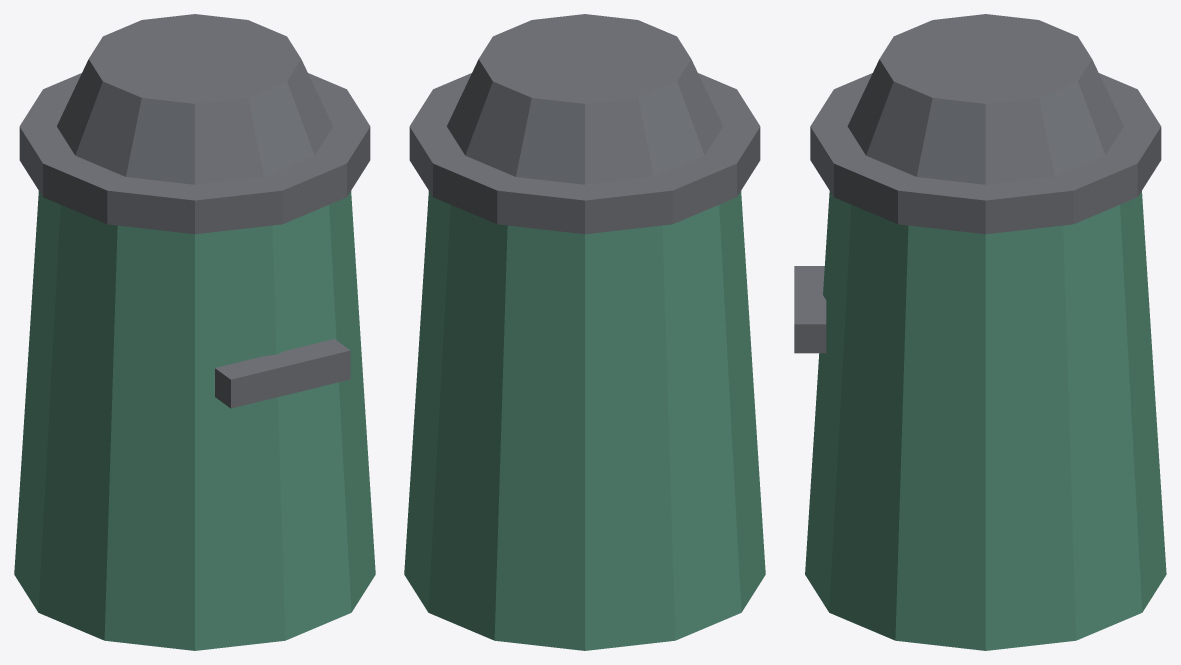
File: racecourse-and-parade-ring-course-litter-bin-1314227f__38652.glb
The picture shows the model from 3 angles, left to right: view 1: azimuth 30°, elevation 25°; view 2: azimuth 150°, elevation 25°; view 3: azimuth 270°, elevation 25°; orthographic projection.
Visible parts, largest first — view 1: course-litter-bin; view 2: course-litter-bin; view 3: course-litter-bin.
Boxes of the visible parts, bbox=[...] form: course-litter-bin: bbox=[14, 14, 375, 650]; course-litter-bin: bbox=[404, 14, 765, 650]; course-litter-bin: bbox=[794, 14, 1166, 650].
Bounding box in the file's own units: 0.6801 × 1.07 × 0.7.
